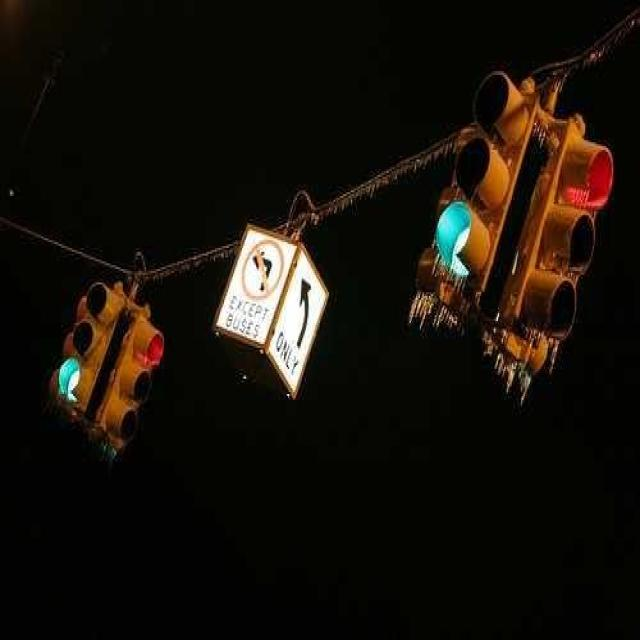Traffic Light -Green-: (422, 68, 526, 310), (42, 270, 109, 410)
Traffic Light -Red-: (532, 120, 614, 358), (113, 317, 178, 466)
